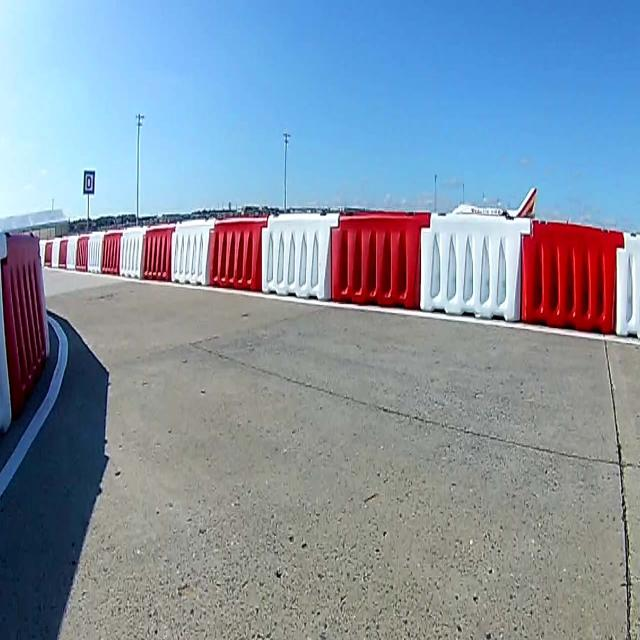durak: (84, 170, 94, 193)
